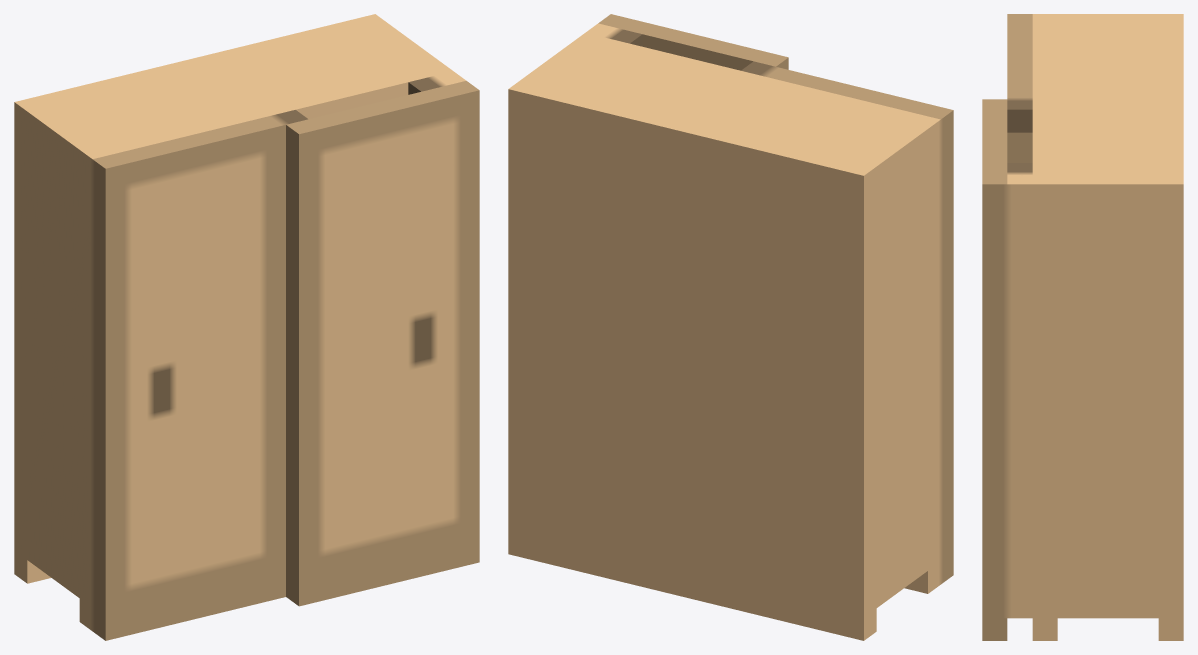
Rendered from closet1.obj.
3 renders of one model, left to right at view 1: azimuth 30°, elevation 25°; view 2: azimuth 150°, elevation 25°; view 3: azimuth 270°, elevation 25°, orthographic. The views are drawn at different scales.
Visible parts, largest first — view 1: closet1; view 2: closet1; view 3: closet1.
Boxes of the visible parts, x1,y1,x2,y2 form: closet1: (14, 14, 479, 640); closet1: (508, 14, 953, 640); closet1: (982, 14, 1183, 640).
Bounding box in the file's own units: 16 × 20 × 8.
